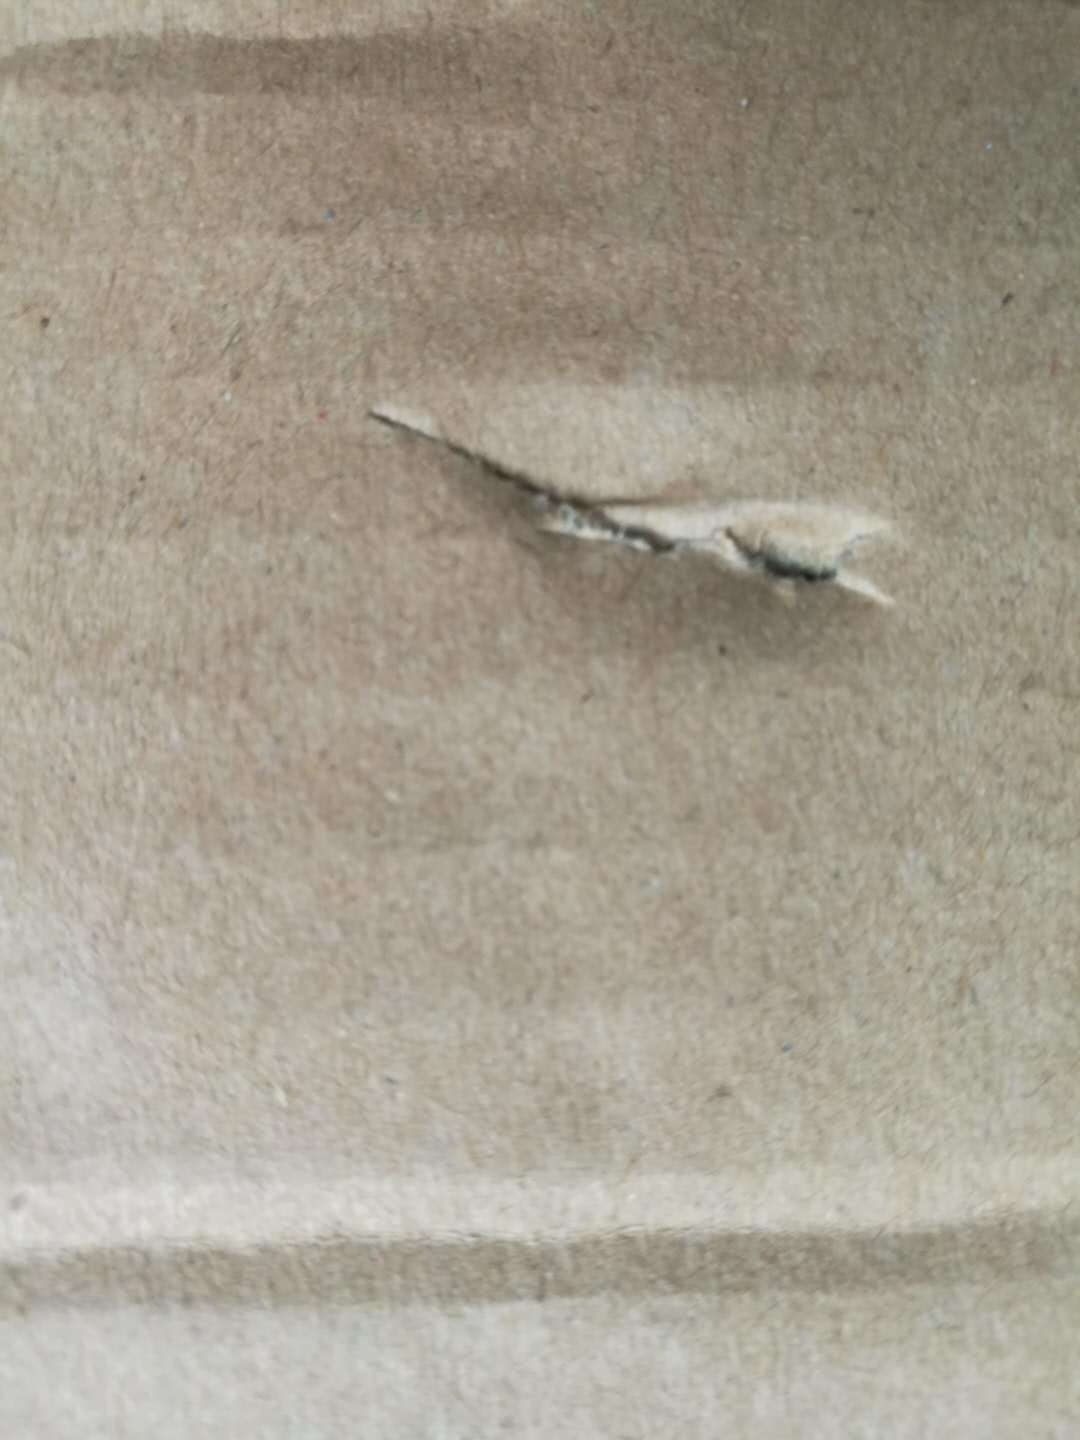defect: (1, 1145, 1080, 1336), (346, 353, 959, 687), (2, 8, 621, 144)
